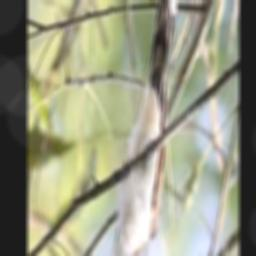Cuckoo: (100, 0, 178, 256)
